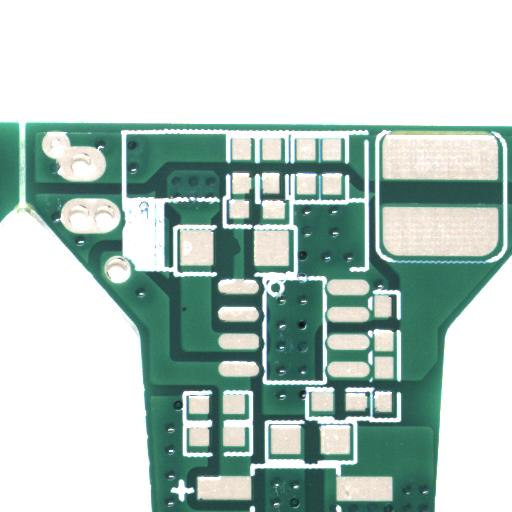Mouse_bite: (235, 248, 245, 269)
